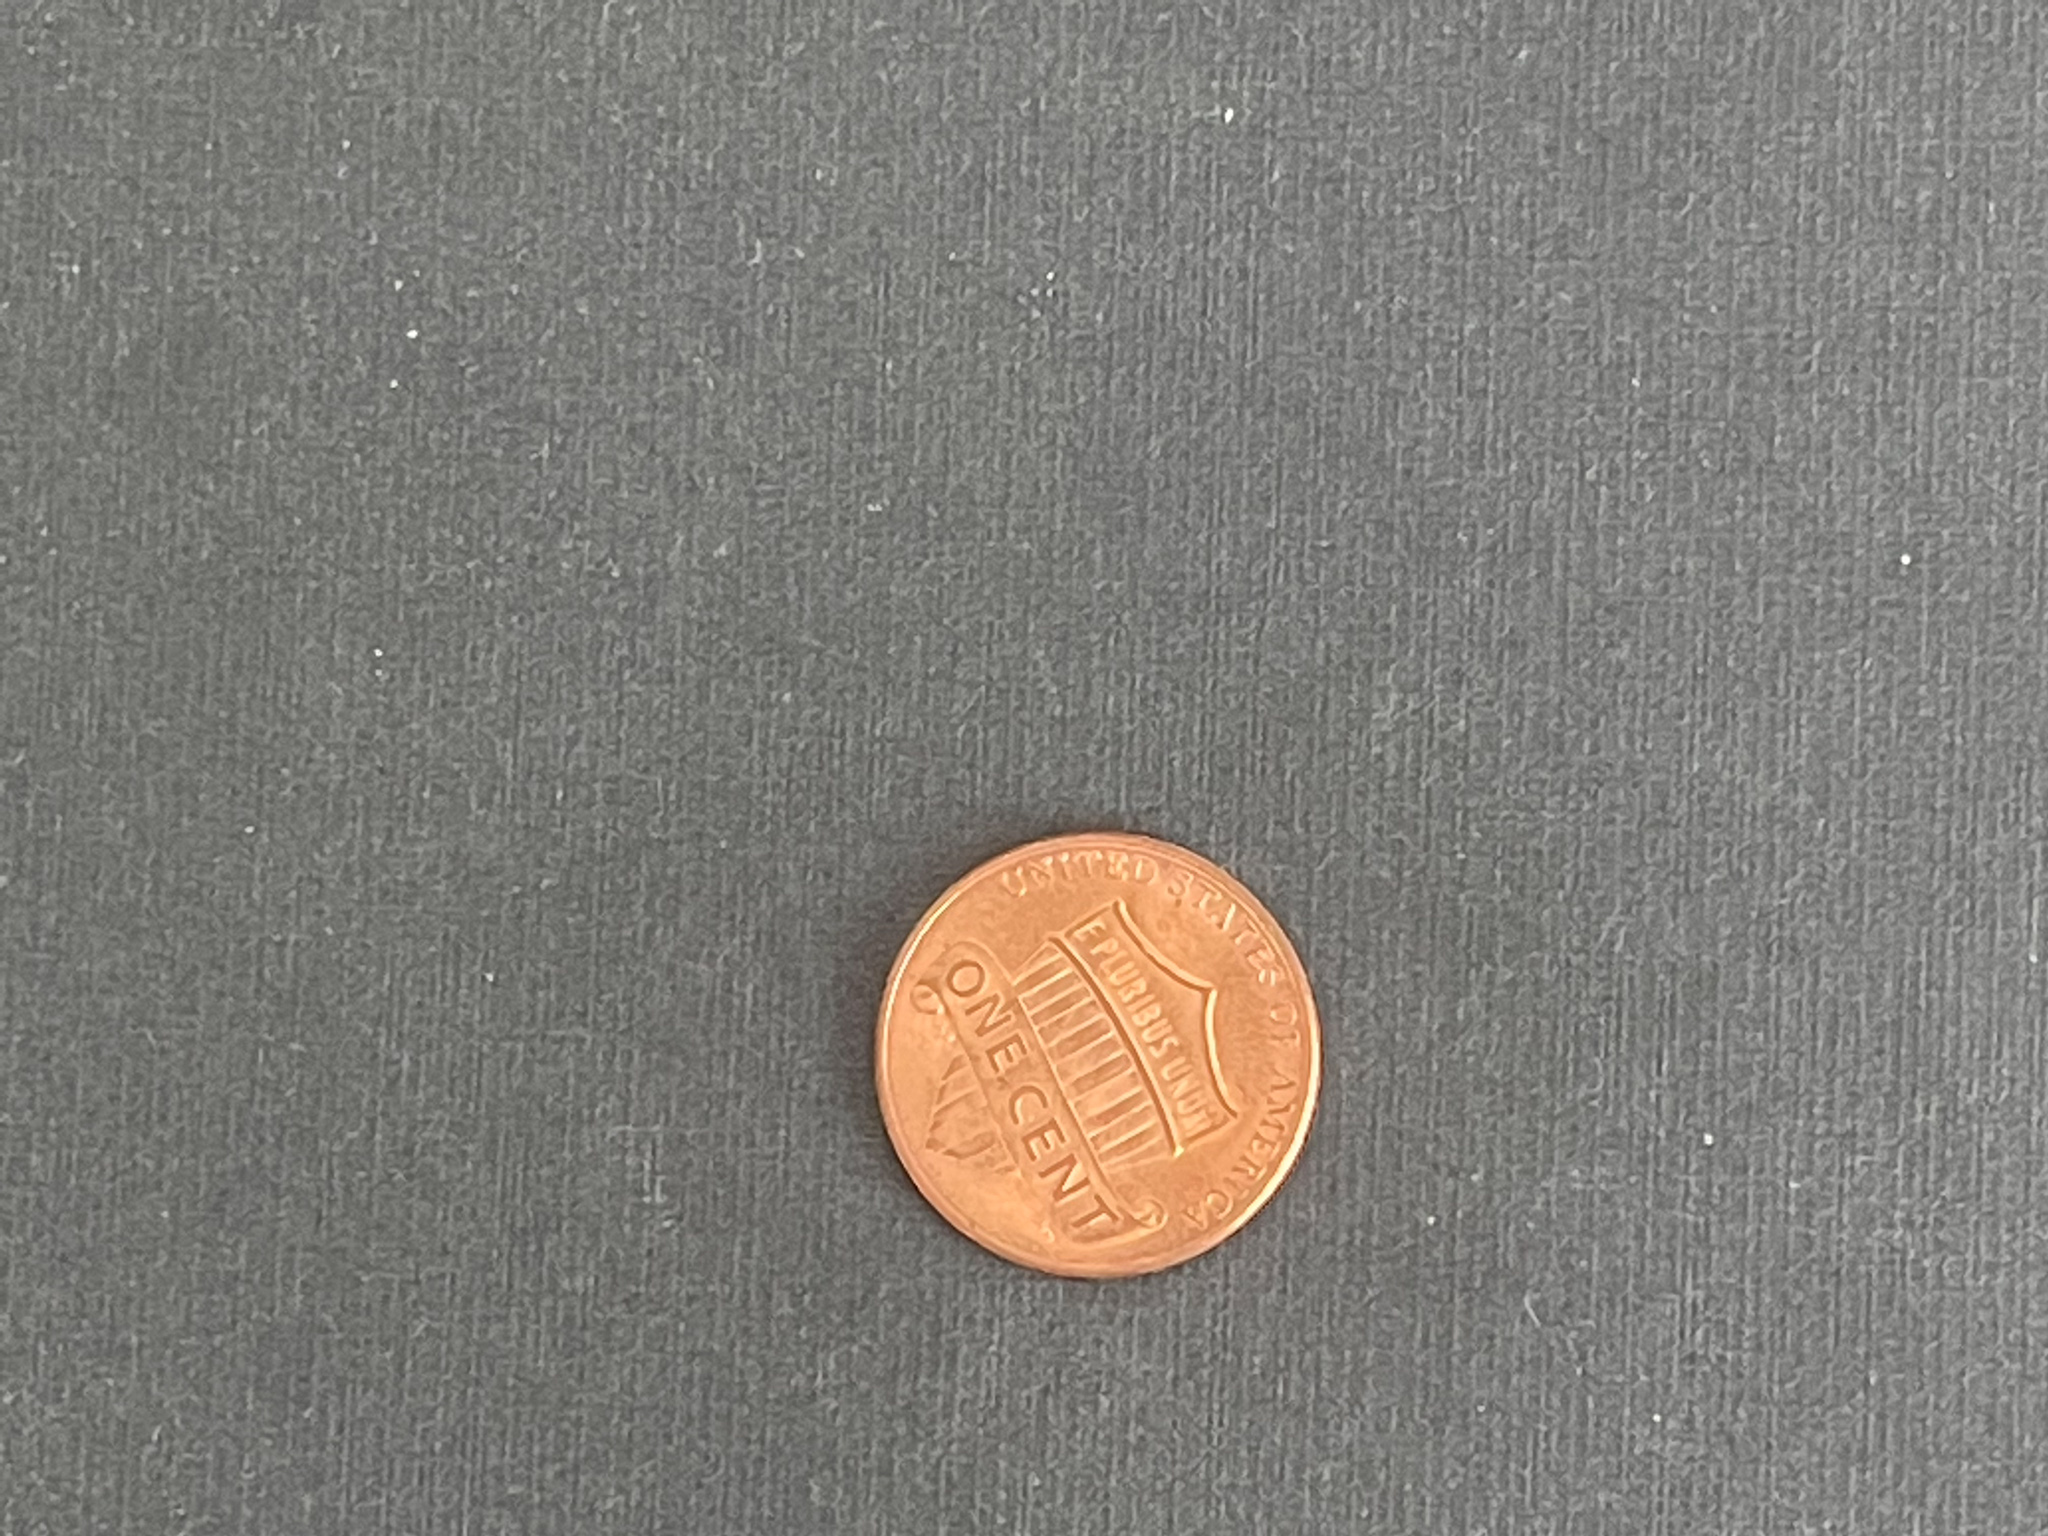penny: (863, 829, 1324, 1283)
